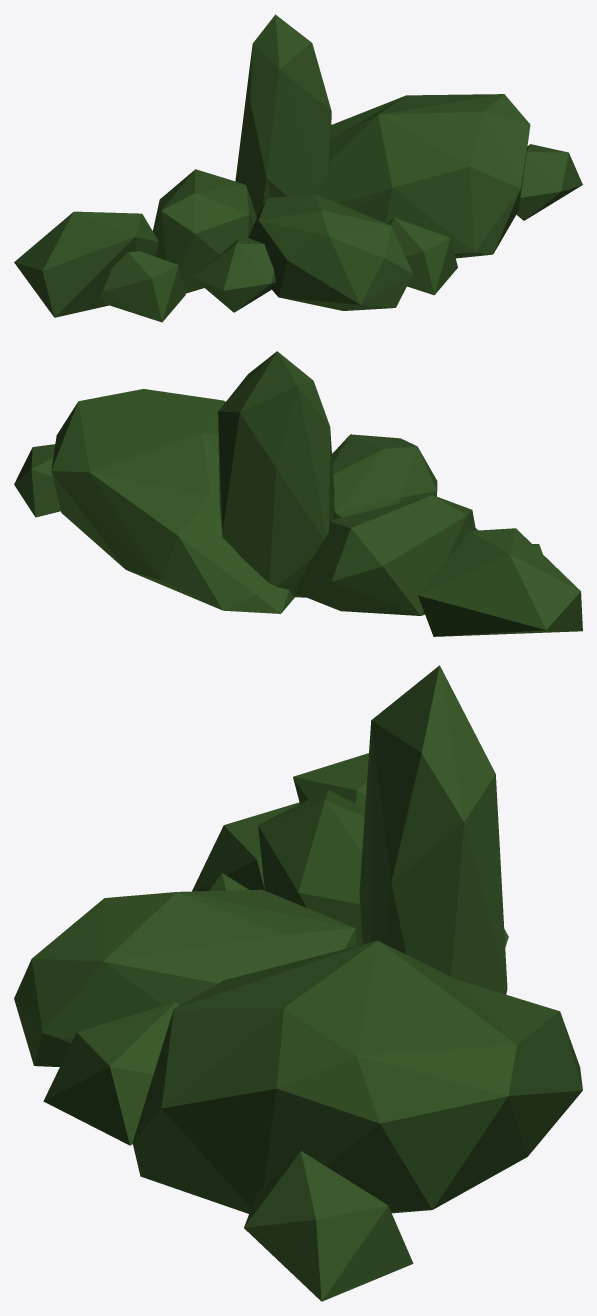
File: SM_bushes_batch_02.fbx
The picture shows the model from 3 angles, top to bottom: view 1: azimuth 30°, elevation 25°; view 2: azimuth 150°, elevation 25°; view 3: azimuth 270°, elevation 25°; orthographic projection. The views are drawn at different scales.
Visible parts, largest first — view 1: Object136; view 2: Object136; view 3: Object136.
Boxes of the visible parts, x1,y1,x2,y2 form: Object136: [14, 14, 582, 322]; Object136: [14, 351, 582, 636]; Object136: [14, 665, 582, 1301].
Bounding box in the file's own units: 262 × 107 × 133.
